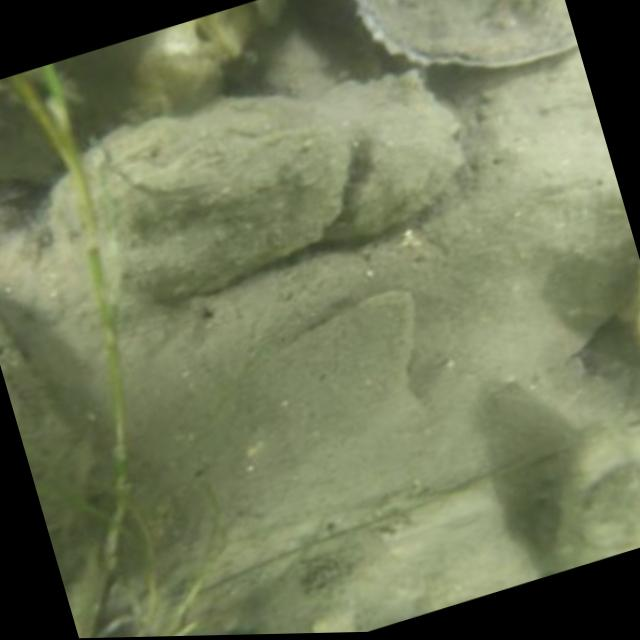Oyster-Closed: (555, 429, 640, 573)
Oyster-Indeterminate: (87, 97, 348, 303), (248, 486, 525, 634), (0, 310, 111, 631), (329, 77, 461, 239), (0, 88, 63, 185)
